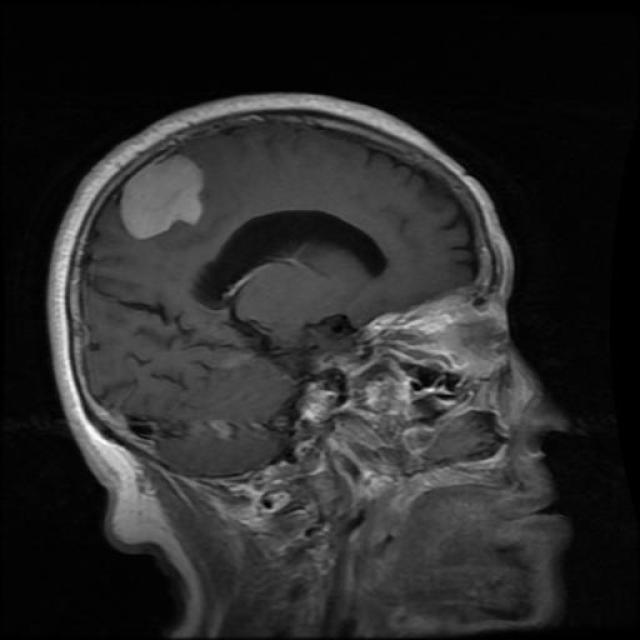meningioma: (119, 154, 204, 241)
